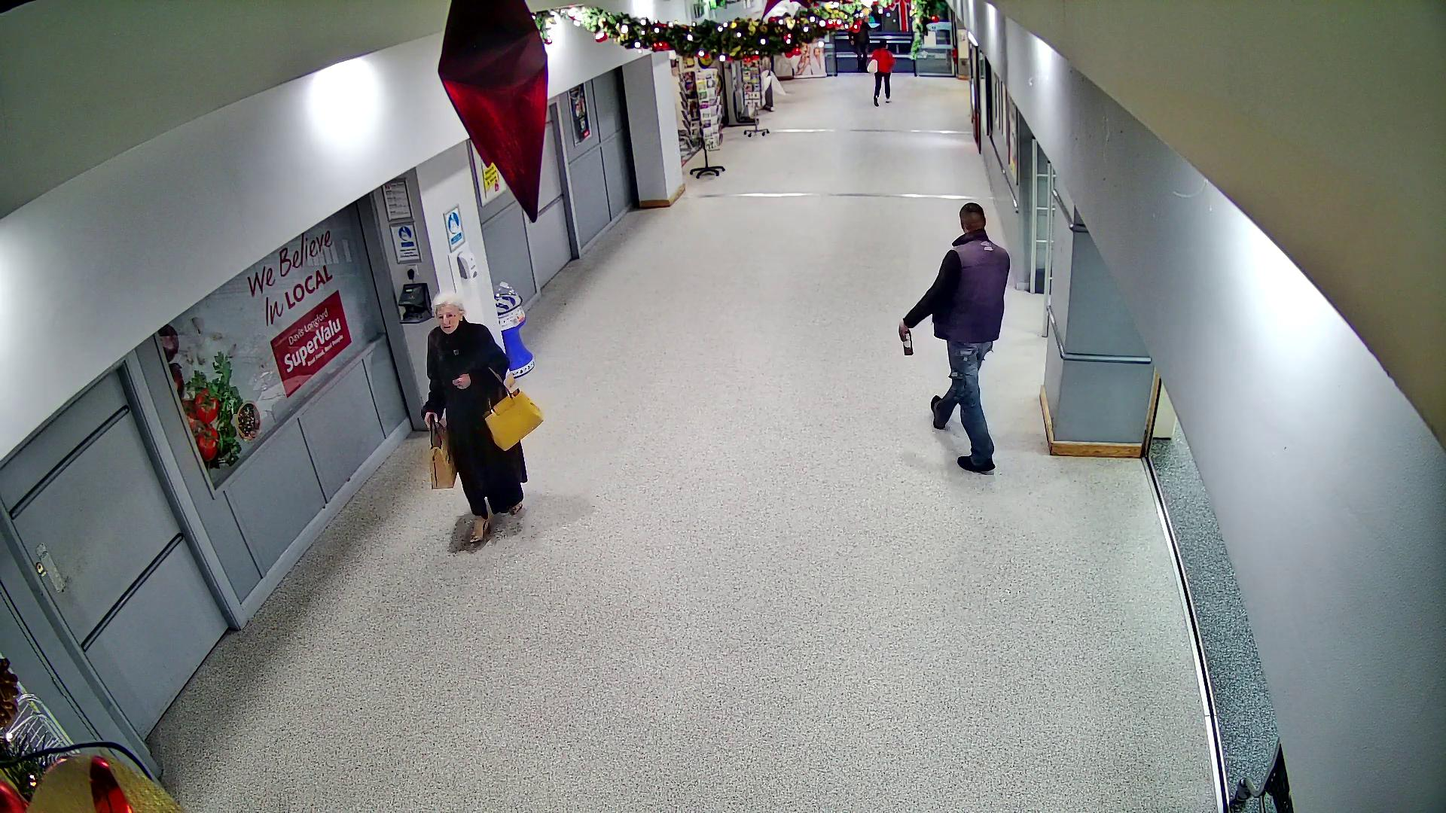backpack-or-handbag: (483, 388, 544, 452)
carrying-item: (900, 324, 914, 358)
filled-shopping-bags: (426, 418, 459, 489)
person: (901, 201, 1011, 473), (421, 291, 527, 541)
person-with-backpack-handbag-and-shopping-bag-s-: (421, 291, 544, 542)
person-with-carrying-item: (899, 201, 1010, 473)
